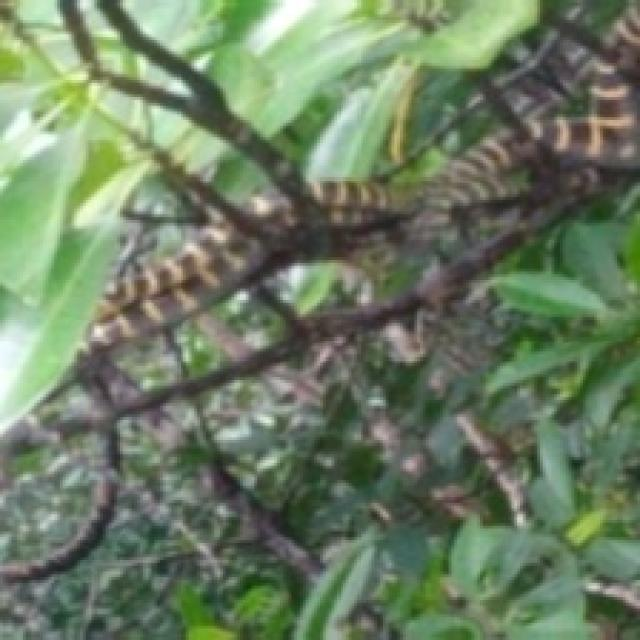mangrove cat snake: (80, 12, 640, 369)
